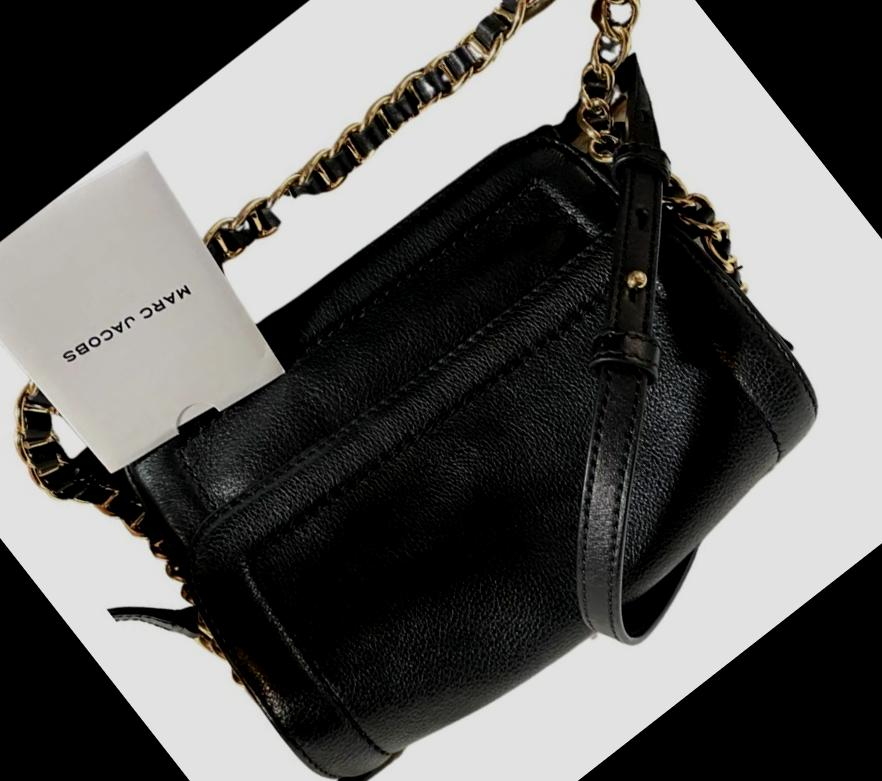MARC-JACOBS: (59, 266, 191, 380)
